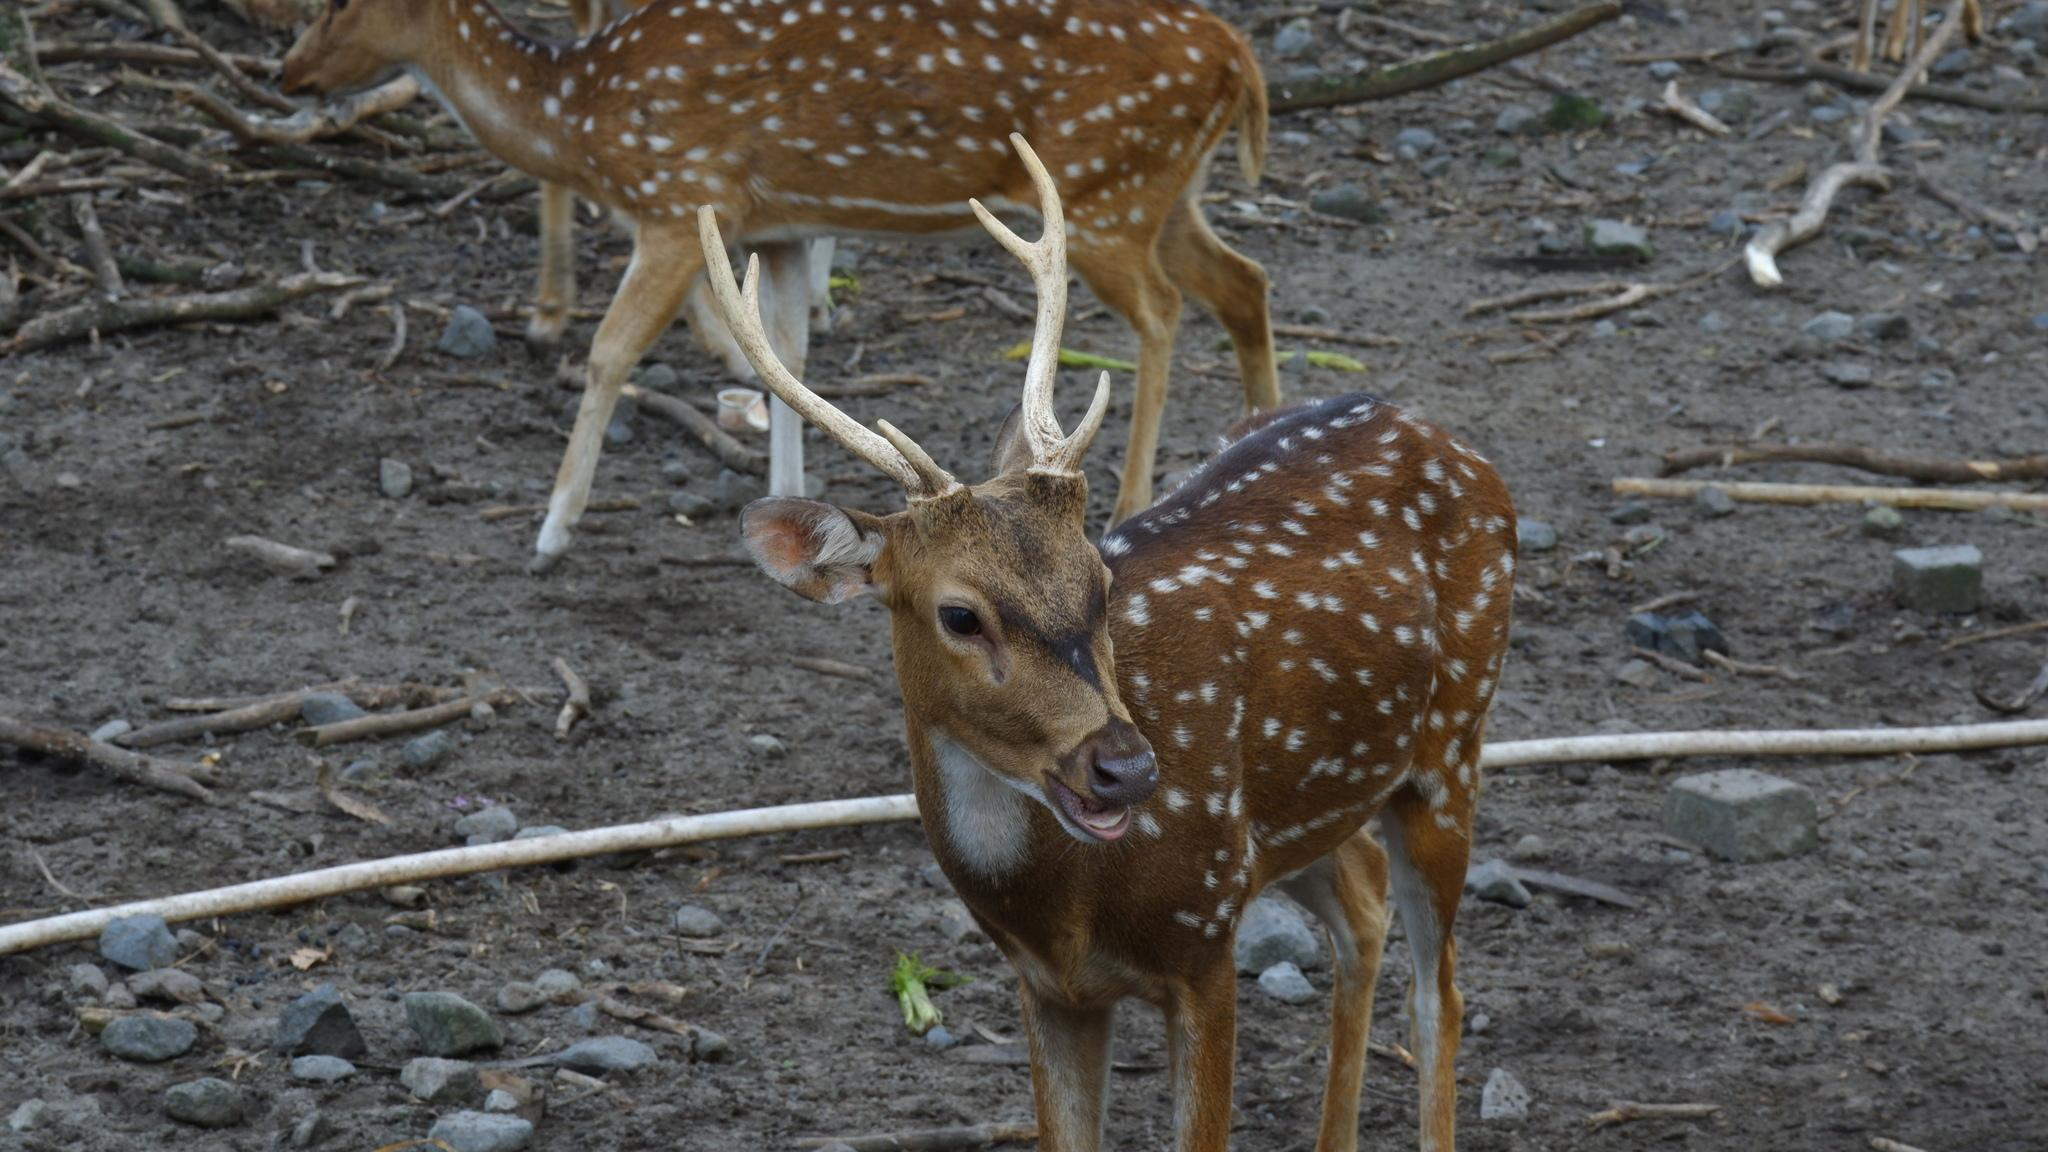Deer: (699, 135, 1515, 1151)
